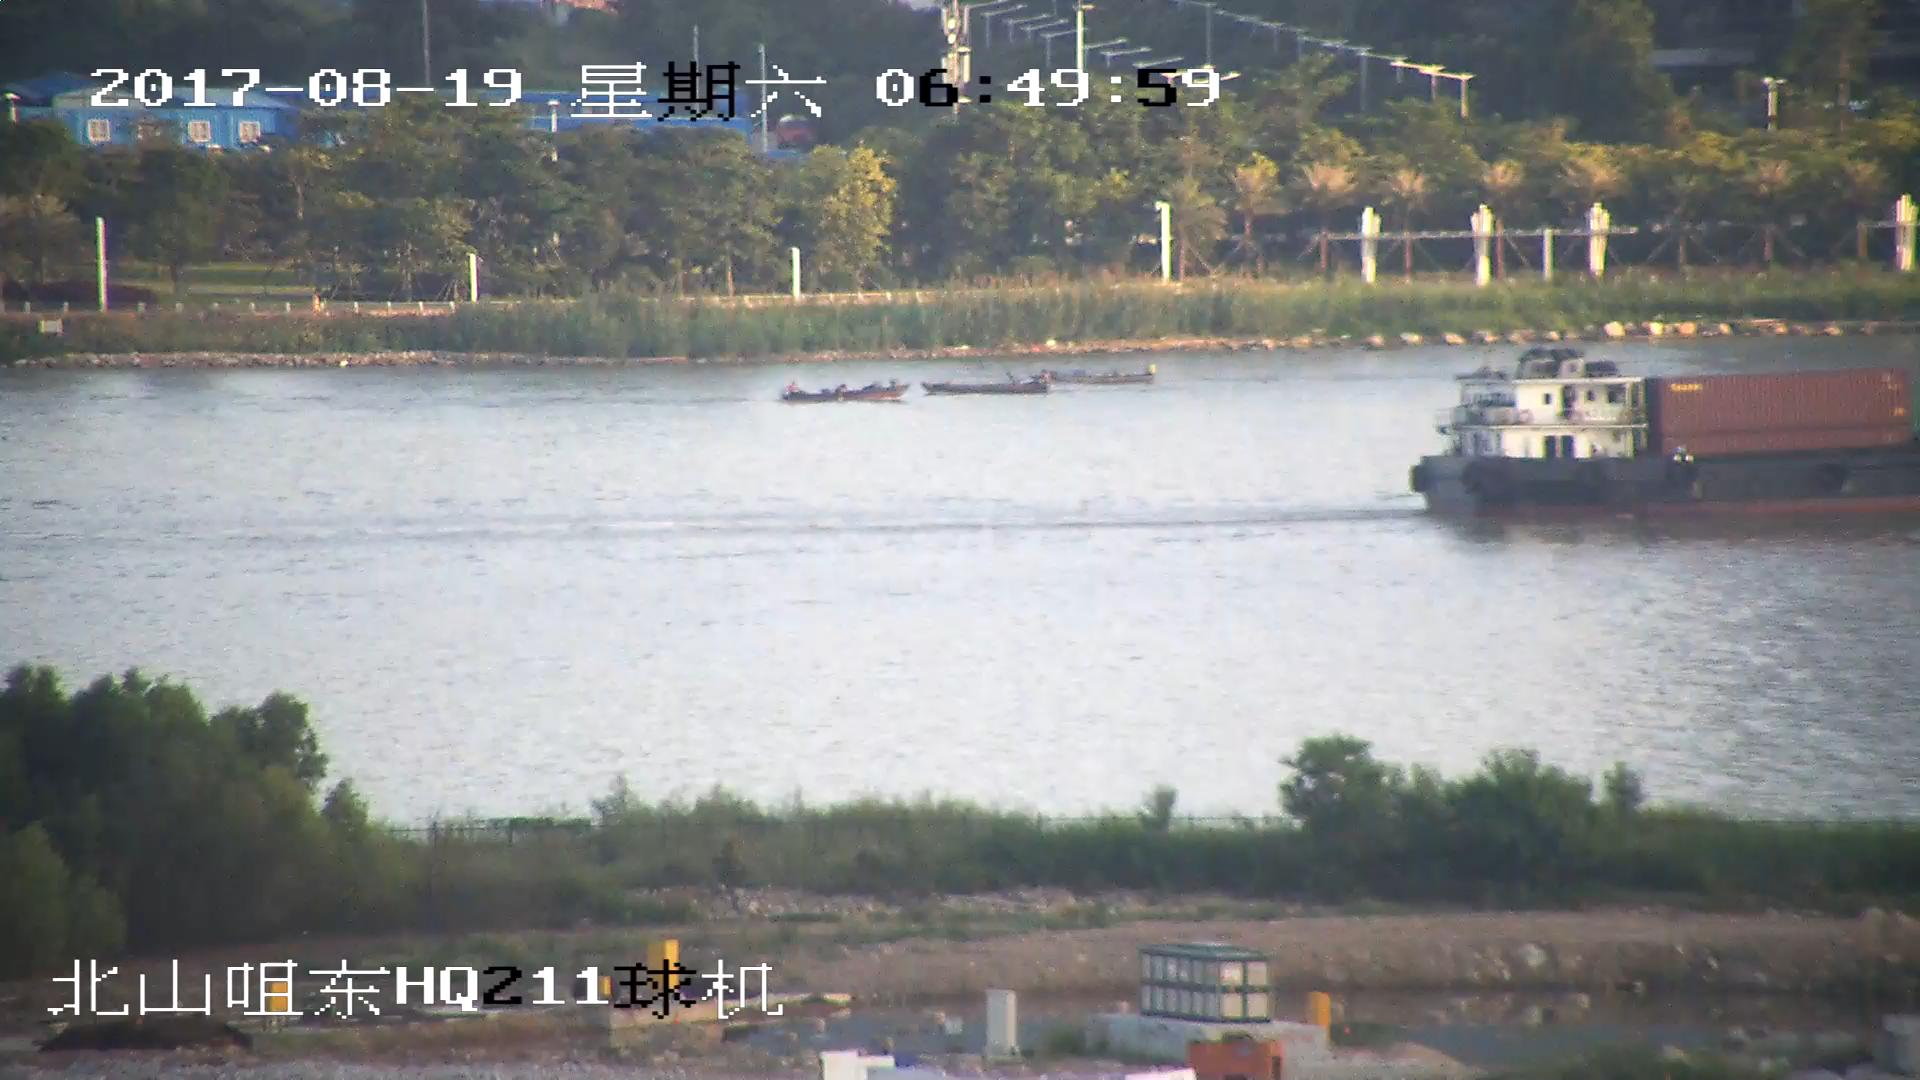container ship: (1408, 350, 1920, 530)
fishing boat: (774, 377, 912, 405), (1039, 361, 1161, 392), (924, 375, 1046, 399)
